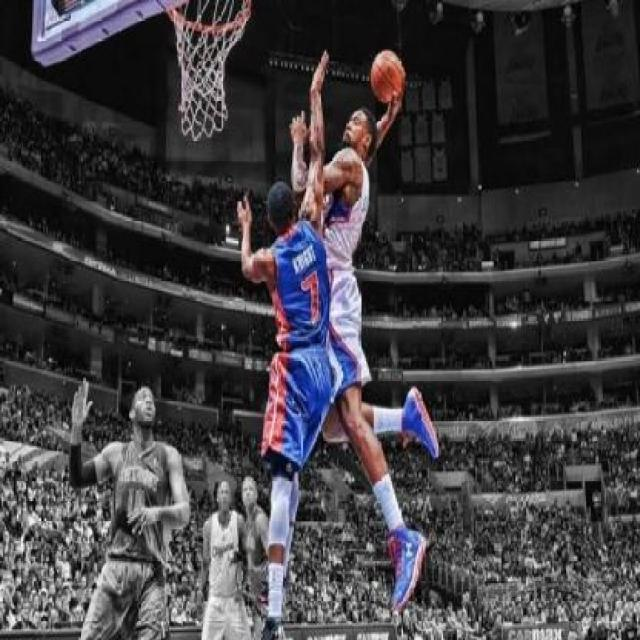basketball: (370, 52, 404, 102)
rim: (155, 0, 253, 138)
